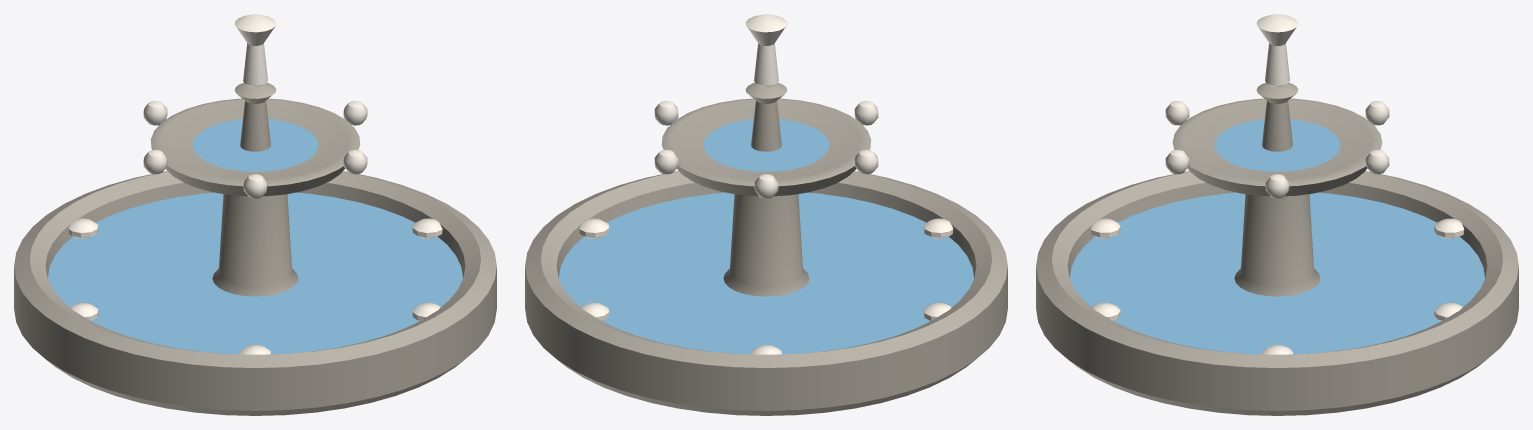
Rendered from fountain.glb.
3 views of the same model, side by side, from view 1: azimuth 30°, elevation 25°; view 2: azimuth 150°, elevation 25°; view 3: azimuth 270°, elevation 25° (orthographic).
Parts seen in each view (by area): view 1: fountain.002, water.002; view 2: fountain.002, water.002; view 3: fountain.002, water.002.
Boxes of the visible parts, x1=… form: fountain.002: x1=14, y1=83, x2=496, y2=415; water.002: x1=68, y1=14, x2=442, y2=354; fountain.002: x1=525, y1=83, x2=1007, y2=415; water.002: x1=579, y1=14, x2=953, y2=354; fountain.002: x1=1036, y1=83, x2=1518, y2=415; water.002: x1=1090, y1=14, x2=1464, y2=354.
Bounding box in the file's own units: 4.6 × 3.2 × 4.6.
1 material, 1 textured.
